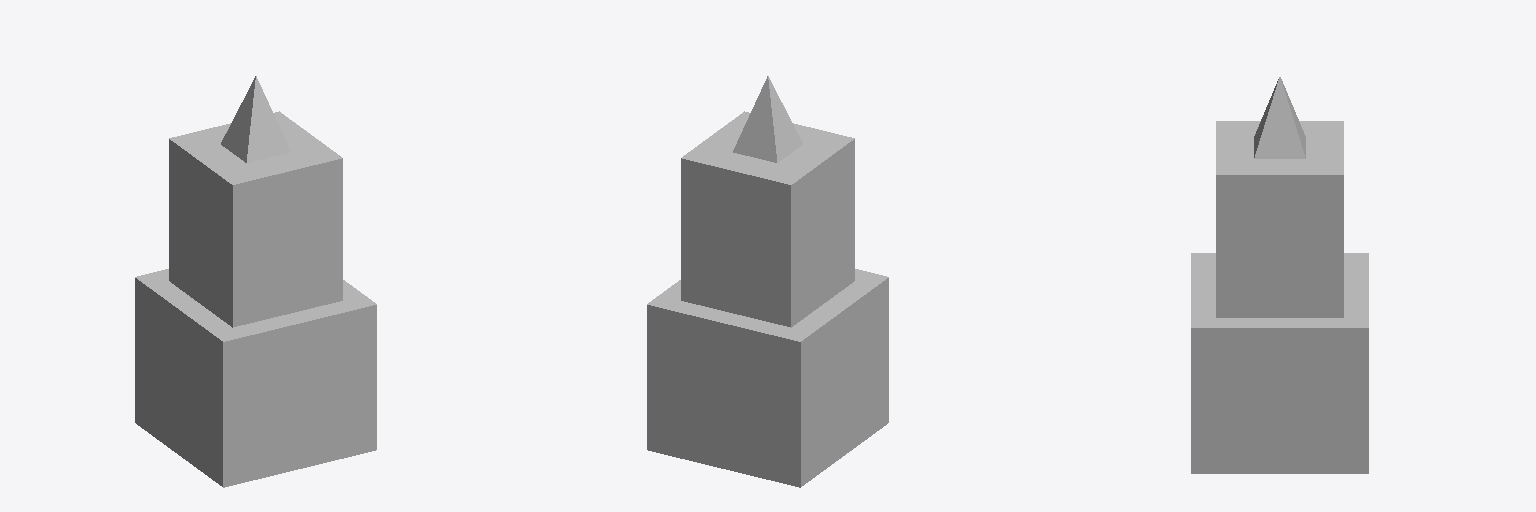
Rendered from Огненная башня 1 2.0.obj.
The picture shows the model from 3 angles: view 1: azimuth 30°, elevation 25°; view 2: azimuth 150°, elevation 25°; view 3: azimuth 270°, elevation 25°; orthographic projection.
Parts seen in each view (by area): view 1: Cube; view 2: Cube; view 3: Cube.
Boxes of the visible parts, x1,y1,x2,y2 form: Cube: [135, 76, 376, 487]; Cube: [647, 76, 888, 487]; Cube: [1191, 77, 1368, 473].
Size of the model in its own units: 2 by 4.48 by 2.